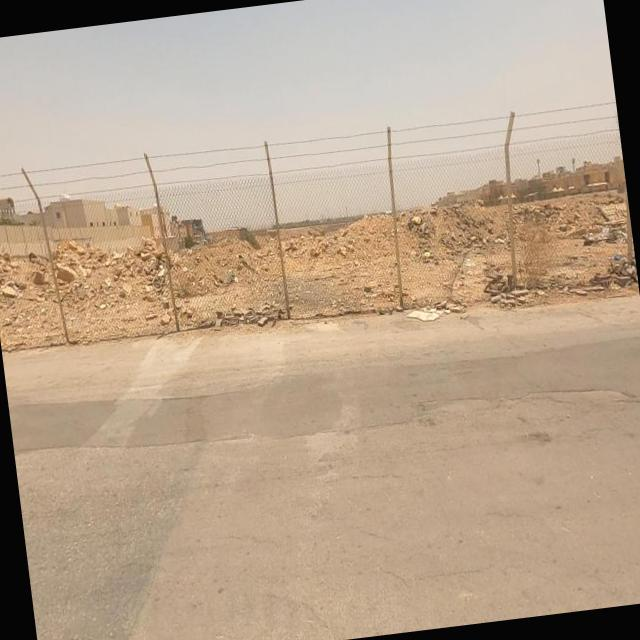debris: (363, 254, 479, 359)
